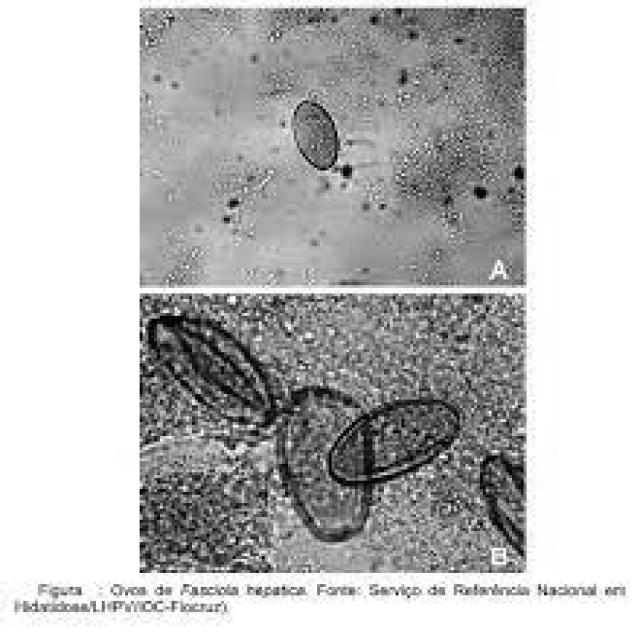Fasciola Hepatica: (144, 310, 284, 439), (278, 382, 377, 546), (323, 390, 474, 490), (280, 94, 344, 174)
